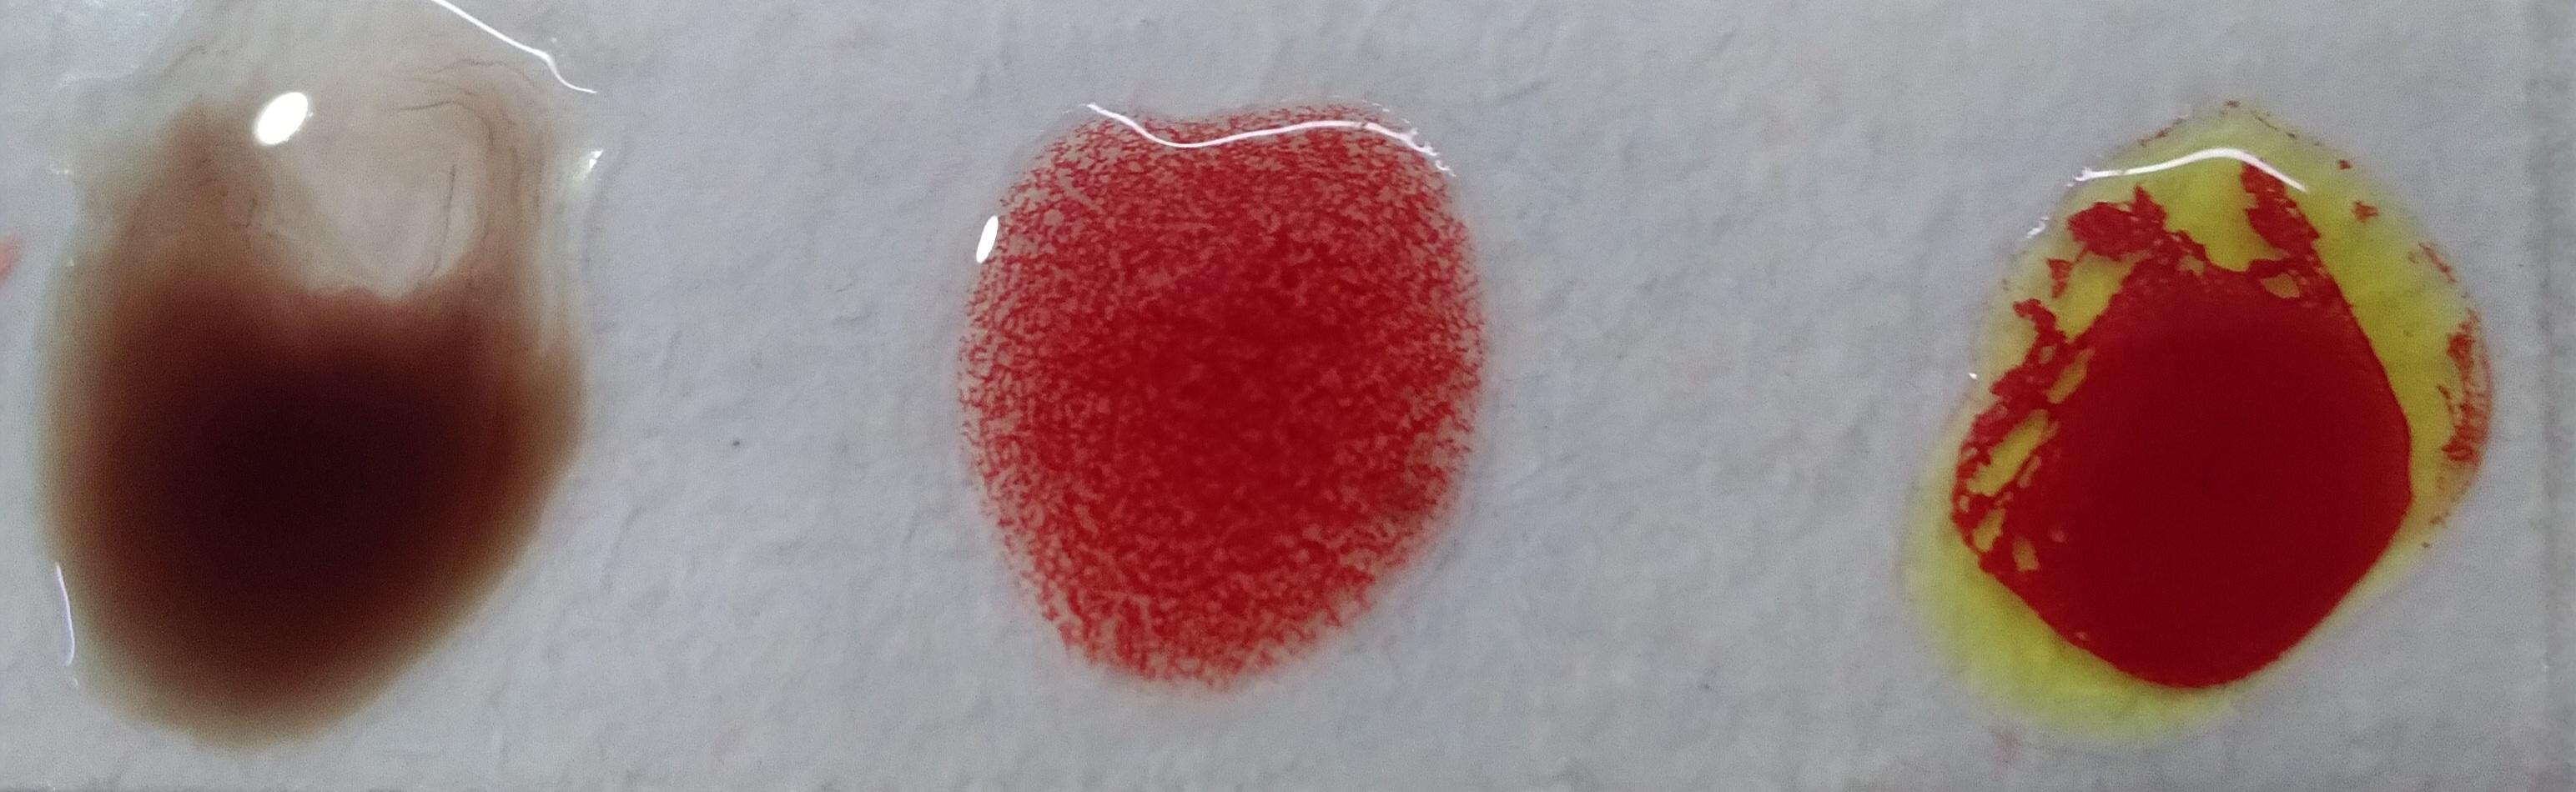B: (103, 20, 670, 684)
D: (1117, 112, 1602, 708)
